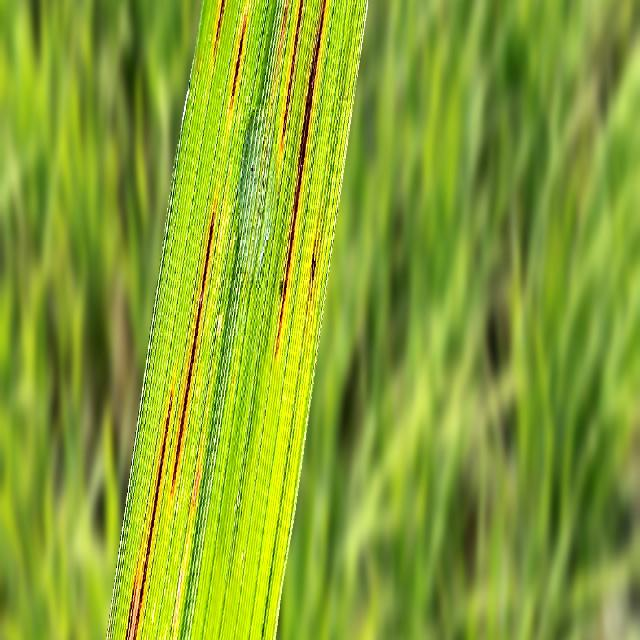NBS: (276, 0, 326, 354), (171, 208, 214, 494), (124, 390, 172, 640), (281, 0, 305, 149), (230, 13, 246, 110), (214, 0, 225, 45)
